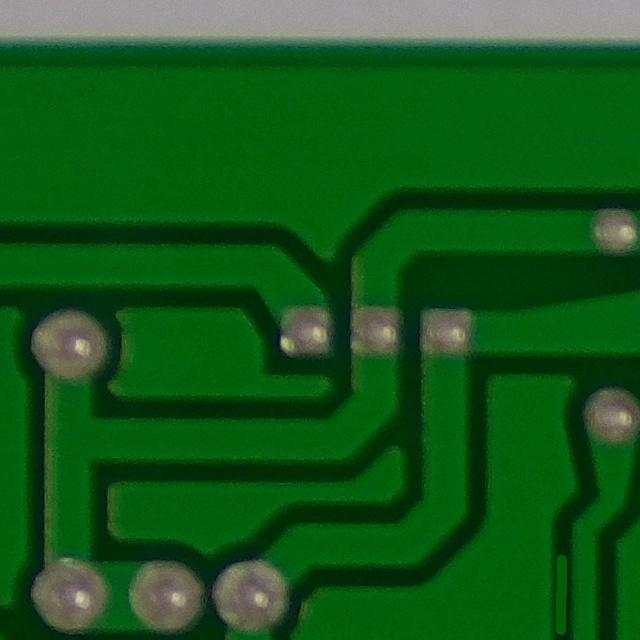spurious_copper: (528, 529, 589, 640)
